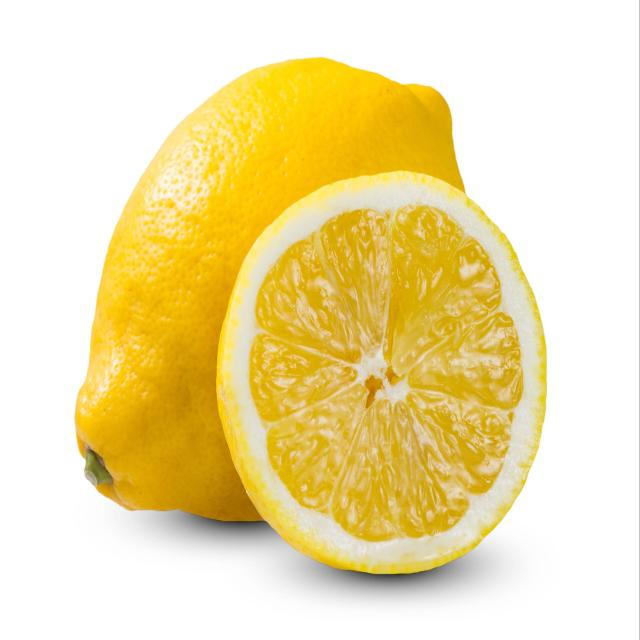lemon: (211, 167, 556, 583)
